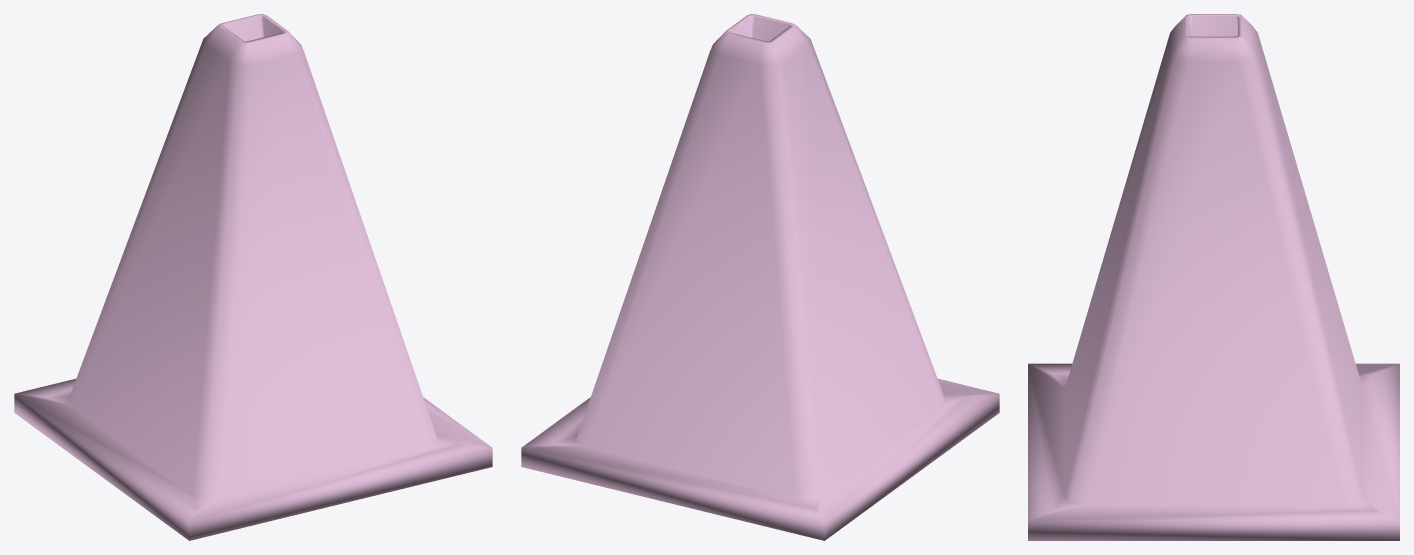
3 renders of one model, left to right at view 1: azimuth 30°, elevation 25°; view 2: azimuth 150°, elevation 25°; view 3: azimuth 270°, elevation 25°, orthographic. The views are drawn at different scales.
Visible parts, largest first — view 1: Cone:Box001; view 2: Cone:Box001; view 3: Cone:Box001.
Part boxes in pixels (x1,y1,x2,y2): Cone:Box001: (14,14,492,540); Cone:Box001: (521,14,999,540); Cone:Box001: (1028,14,1399,540).
Bounding box in the file's own units: 10 × 12.94 × 10.
